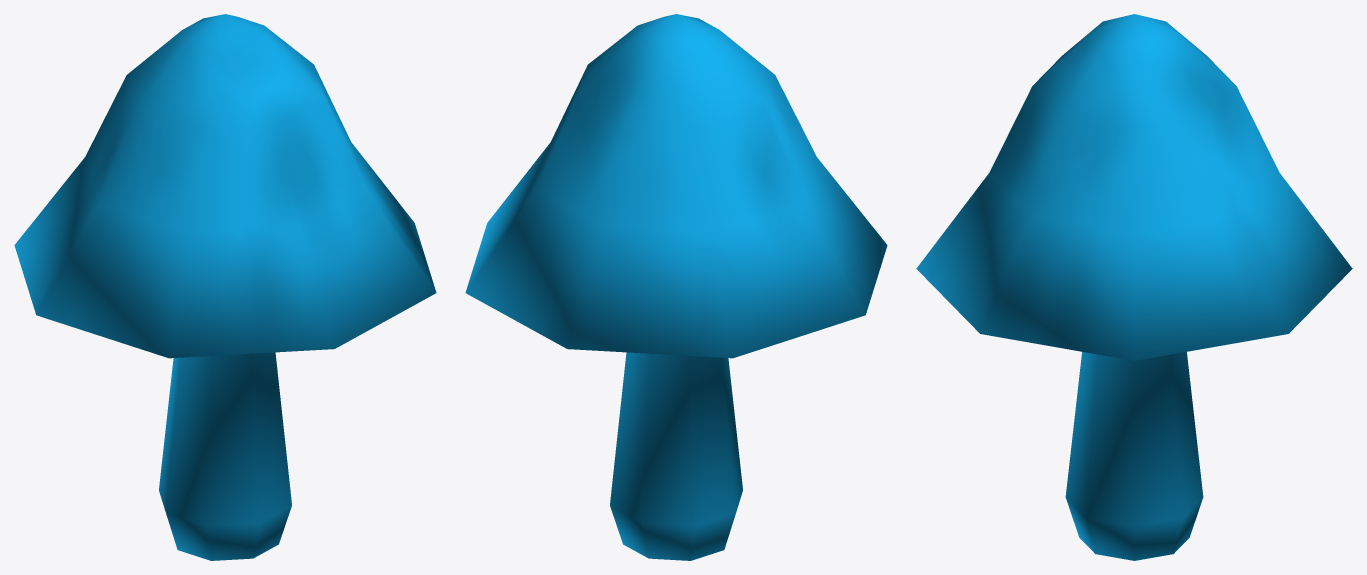
Rendered from mushroom_3.fbx.
3 views of the same model, side by side, from view 1: azimuth 30°, elevation 25°; view 2: azimuth 150°, elevation 25°; view 3: azimuth 270°, elevation 25° (orthographic).
Parts seen in each view (by area): view 1: mushroom_3; view 2: mushroom_3; view 3: mushroom_3.
Part boxes in pixels (<box>): mushroom_3: <box>14,14,436,560</box>; mushroom_3: <box>465,14,887,560</box>; mushroom_3: <box>916,14,1352,560</box>.
Bounding box in the file's own units: 0.3156 × 0.4179 × 0.3156.
